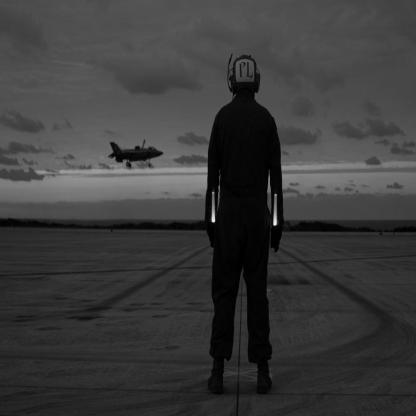F35: (109, 139, 166, 169)
